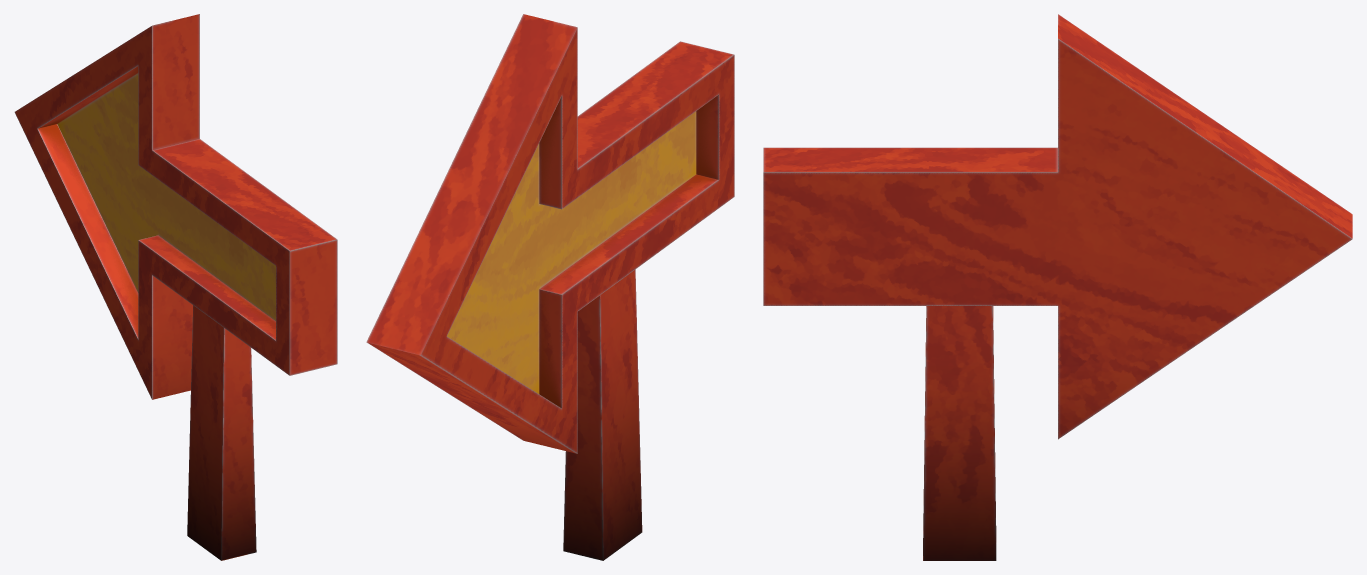
Rendered from Penanda Jalan (Kanan) 1.fbx.
The picture shows the model from 3 angles, left to right: view 1: azimuth 30°, elevation 25°; view 2: azimuth 150°, elevation 25°; view 3: azimuth 270°, elevation 25°; orthographic projection. The views are drawn at different scales.
Visible parts, largest first — view 1: PanahJalan; view 2: PanahJalan; view 3: PanahJalan.
Part boxes in pixels (<box>): PanahJalan: <box>14,14,337,560</box>; PanahJalan: <box>366,14,734,560</box>; PanahJalan: <box>763,14,1352,560</box>.
Bounding box in the file's own units: 60 × 600 × 590.
1 material, 1 textured.
